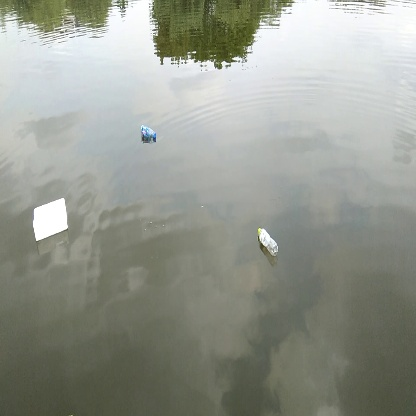bottle: (254, 223, 285, 258), (135, 119, 163, 142)
plastic-garbage: (29, 198, 71, 242)
